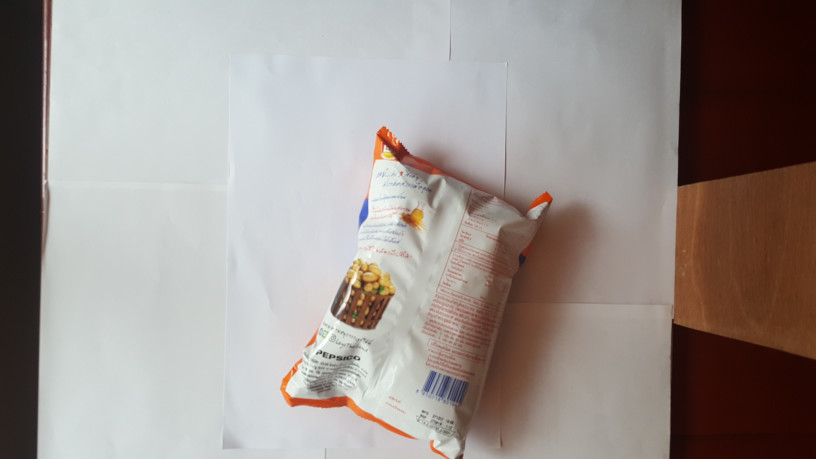lays-bbq: (271, 120, 555, 459)
